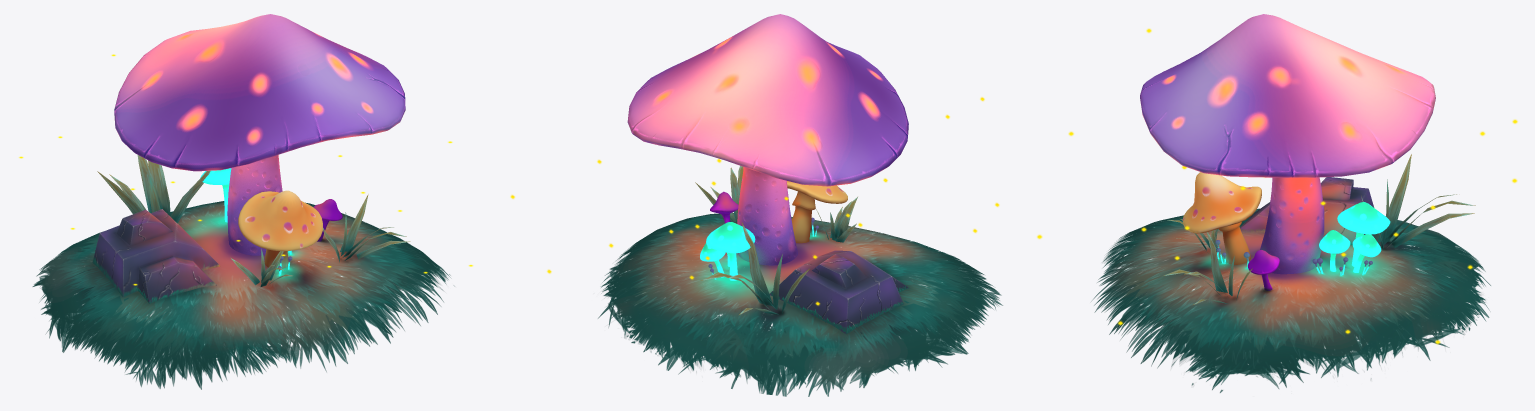
Rendered from stylized_mushrooms-v1.glb.
The picture shows the model from 3 angles, left to right: view 1: azimuth 30°, elevation 25°; view 2: azimuth 150°, elevation 25°; view 3: azimuth 270°, elevation 25°; orthographic projection. The views are drawn at different scales.
Visible parts, largest first — view 1: Plane, Circle, Cube.001, Circle.001, Plane.002, Cube, Plane.003, Plane.001, Circle.002, Circle.005; view 2: Plane, Circle, Cube.001, Circle.001, Plane.002, Circle.002, Cube, Plane.001, Plane.003, Circle.005; view 3: Plane, Circle, Circle.001, Plane.002, Cube.001, Circle.002, Plane.003, Circle.005, Cube, Circle.004, Circle.006, Plane.004.
Boxes of the visible parts, bbox=[...] form: Plane: bbox=[32, 201, 454, 389]; Circle: bbox=[114, 14, 405, 255]; Cube.001: bbox=[92, 209, 220, 303]; Circle.001: bbox=[238, 190, 322, 269]; Plane.002: bbox=[97, 155, 210, 223]; Cube: bbox=[116, 209, 172, 245]; Plane.003: bbox=[323, 194, 410, 262]; Plane.001: bbox=[230, 248, 292, 286]; Circle.002: bbox=[200, 168, 231, 222]; Circle.005: bbox=[313, 199, 342, 241]; Plane: bbox=[598, 213, 1002, 396]; Circle: bbox=[627, 14, 908, 265]; Cube.001: bbox=[769, 250, 908, 334]; Circle.001: bbox=[787, 181, 847, 243]; Plane.002: bbox=[701, 222, 809, 314]; Circle.002: bbox=[706, 222, 755, 280]; Cube: bbox=[812, 254, 865, 288]; Plane.001: bbox=[816, 197, 857, 242]; Plane.003: bbox=[695, 165, 743, 223]; Circle.005: bbox=[710, 191, 738, 223]; Plane: bbox=[1091, 208, 1490, 392]; Circle: bbox=[1140, 14, 1435, 274]; Circle.001: bbox=[1182, 172, 1261, 264]; Plane.002: bbox=[1361, 154, 1475, 249]; Cube.001: bbox=[1240, 187, 1374, 245]; Circle.002: bbox=[1337, 202, 1390, 266]; Plane.003: bbox=[1163, 232, 1252, 304]; Circle.005: bbox=[1248, 250, 1279, 290]; Cube: bbox=[1320, 177, 1353, 200]; Circle.004: bbox=[1319, 230, 1350, 271]; Circle.006: bbox=[1352, 234, 1381, 272]; Plane.004: bbox=[1037, 28, 1517, 344].
Size of the model in its own units: 4.37 by 3.12 by 4.49.
Materials: 2 (2 with a texture image).
